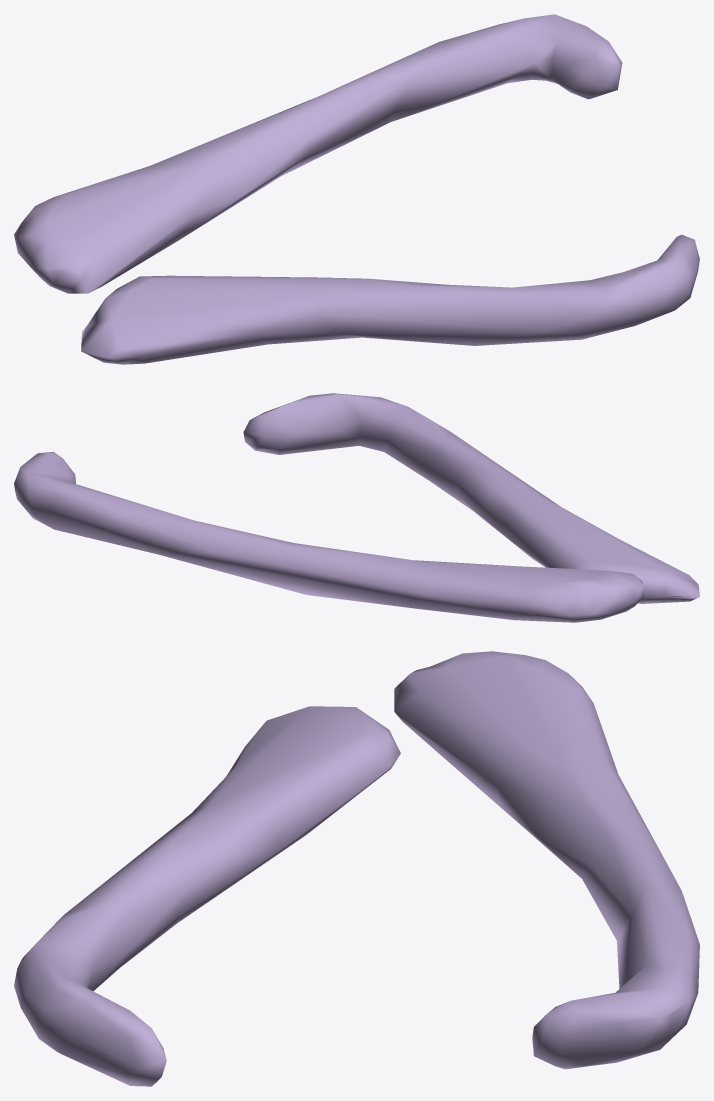
The picture shows the model from 3 angles, top to bottom: view 1: azimuth 30°, elevation 25°; view 2: azimuth 150°, elevation 25°; view 3: azimuth 270°, elevation 25°; orthographic projection. The views are drawn at different scales.
Parts seen in each view (by area): view 1: 左侧泪小管; view 2: 左侧泪小管; view 3: 左侧泪小管.
Part boxes in pixels (left/top/right/bottom): 左侧泪小管: left=14, top=14, right=699, bottom=364; 左侧泪小管: left=14, top=393, right=699, bottom=622; 左侧泪小管: left=14, top=651, right=699, bottom=1086.
Bounding box in the file's own units: 0.0104 × 0.00171 × 0.00738.
